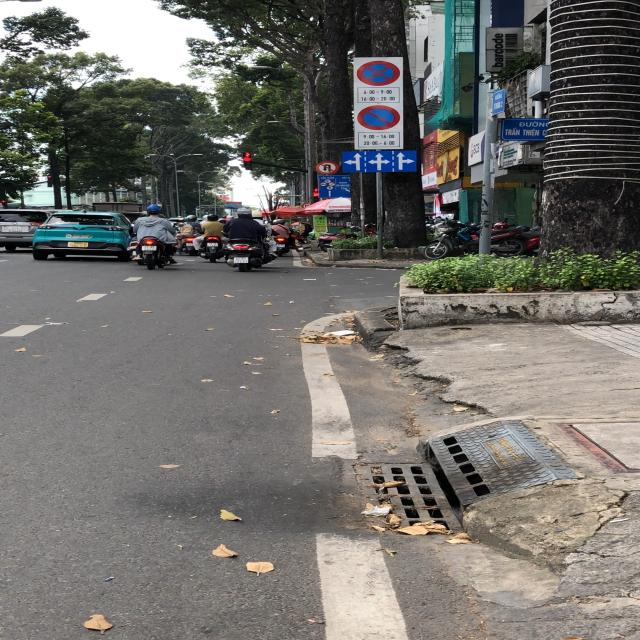Bien bao cam do xe: (356, 102, 402, 132)
Bien bao cam dung xe va do xe: (349, 56, 407, 86)
Bien bao cam quay dau xe: (313, 160, 341, 174)
